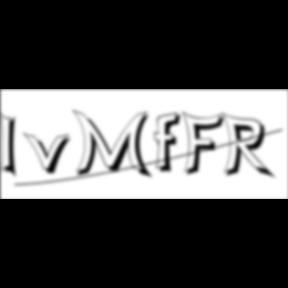F: (182, 110, 230, 178)
I: (0, 110, 24, 182)
M: (72, 108, 156, 181)
R: (222, 112, 278, 182)
f: (154, 111, 188, 175)
v: (23, 131, 77, 177)
